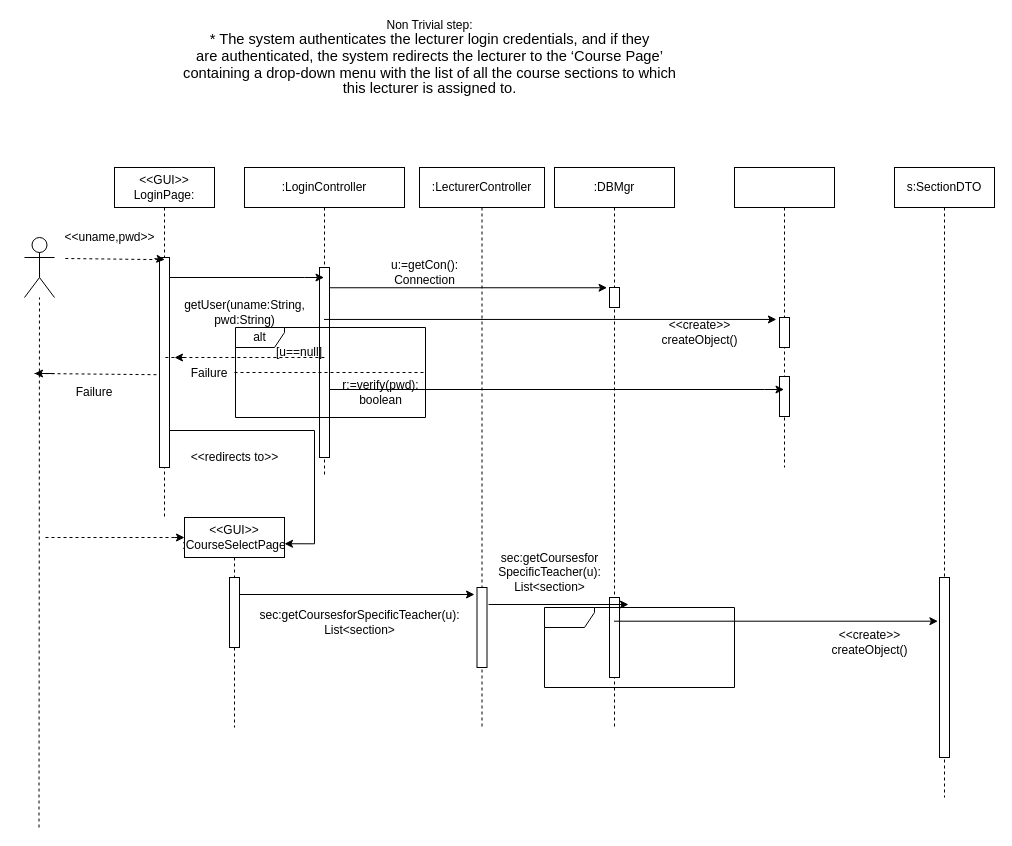
Image size: 1012x846. Some labels were removed from this diagram. Each missing label, with the centre of its shape:
Lecturer: point 39,267
loop: point 639,647
u:UserDTO: point 784,317
